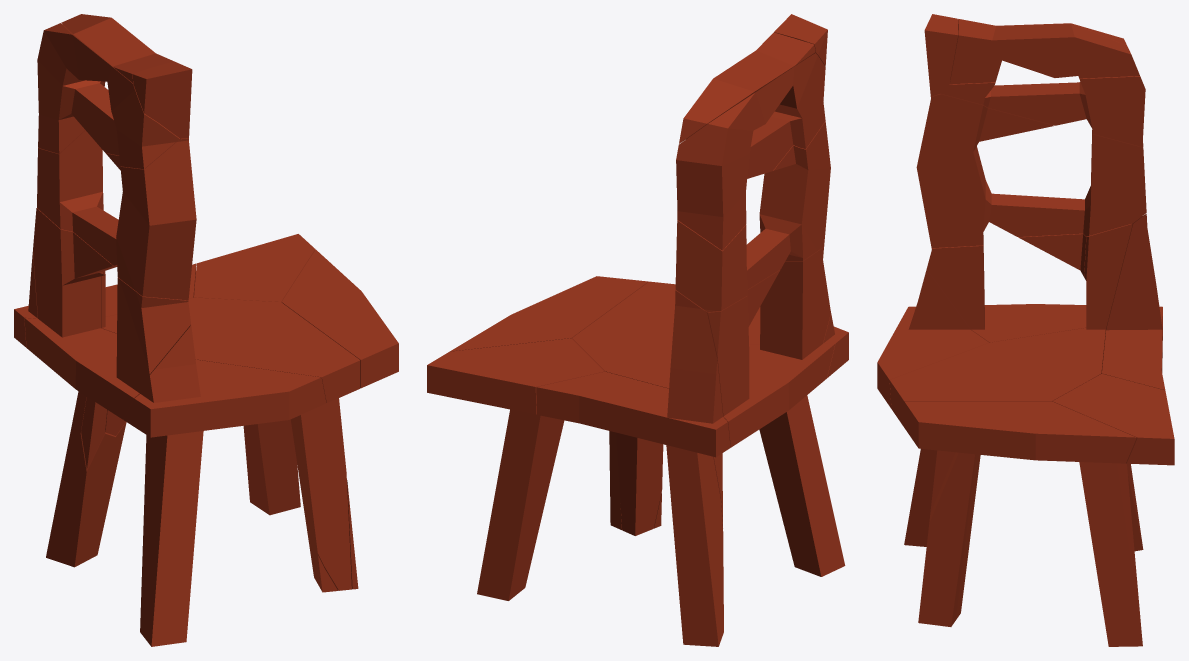
File: Chaise_fracture.fbx
3 renders of one model, left to right at view 1: azimuth 30°, elevation 25°; view 2: azimuth 150°, elevation 25°; view 3: azimuth 270°, elevation 25°, orthographic. The views are drawn at different scales.
Parts seen in each view (by area): view 1: Chaise_cell.008, Chaise_cell.002, Chaise_cell.009, Chaise_cell.007, Chaise_cell.003, Chaise_cell.005, Chaise_cell, Chaise_cell.006, Chaise_cell.001, Chaise_cell.004; view 2: Chaise_cell, Chaise_cell.005, Chaise_cell.009, Chaise_cell.003, Chaise_cell.007, Chaise_cell.002, Chaise_cell.008, Chaise_cell.006, Chaise_cell.004, Chaise_cell.001; view 3: Chaise_cell.007, Chaise_cell.006, Chaise_cell.002, Chaise_cell.005, Chaise_cell.004, Chaise_cell.003, Chaise_cell.009, Chaise_cell.008, Chaise_cell, Chaise_cell.001.
Part boxes in pixels (left/top/right/bottom): Chaise_cell.008: left=123, top=325, right=326, bottom=646; Chaise_cell.002: left=101, top=271, right=360, bottom=590; Chaise_cell.009: left=24, top=208, right=190, bottom=468; Chaise_cell.007: left=37, top=130, right=196, bottom=300; Chaise_cell.003: left=37, top=23, right=179, bottom=169; Chaise_cell.005: left=194, top=234, right=315, bottom=515; Chaise_cell: left=14, top=252, right=196, bottom=567; Chaise_cell.006: left=281, top=249, right=398, bottom=589; Chaise_cell.001: left=133, top=61, right=192, bottom=138; Chaise_cell.004: left=61, top=14, right=173, bottom=82; Chaise_cell: left=536, top=290, right=730, bottom=646; Chaise_cell.005: left=427, top=338, right=604, bottom=600; Chaise_cell.009: left=703, top=247, right=834, bottom=525; Chaise_cell.003: left=676, top=53, right=825, bottom=250; Chaise_cell.007: left=675, top=121, right=830, bottom=312; Chaise_cell.002: left=572, top=281, right=702, bottom=535; Chaise_cell.008: left=748, top=307, right=848, bottom=576; Chaise_cell.006: left=450, top=276, right=648, bottom=529; Chaise_cell.004: left=679, top=32, right=815, bottom=143; Chaise_cell.001: left=774, top=14, right=827, bottom=66; Chaise_cell.007: left=916, top=94, right=1146, bottom=248; Chaise_cell.006: left=904, top=401, right=1136, bottom=626; Chaise_cell.002: left=889, top=224, right=1132, bottom=620; Chaise_cell.005: left=1052, top=374, right=1174, bottom=646; Chaise_cell.004: left=950, top=19, right=1139, bottom=84; Chaise_cell.003: left=940, top=23, right=1145, bottom=147; Chaise_cell.009: left=926, top=223, right=1132, bottom=342; Chaise_cell.008: left=877, top=269, right=988, bottom=546; Chaise_cell: left=1101, top=214, right=1165, bottom=551; Chaise_cell.001: left=924, top=14, right=958, bottom=96.
Size of the model in its own units: 132 by 238 by 123.
